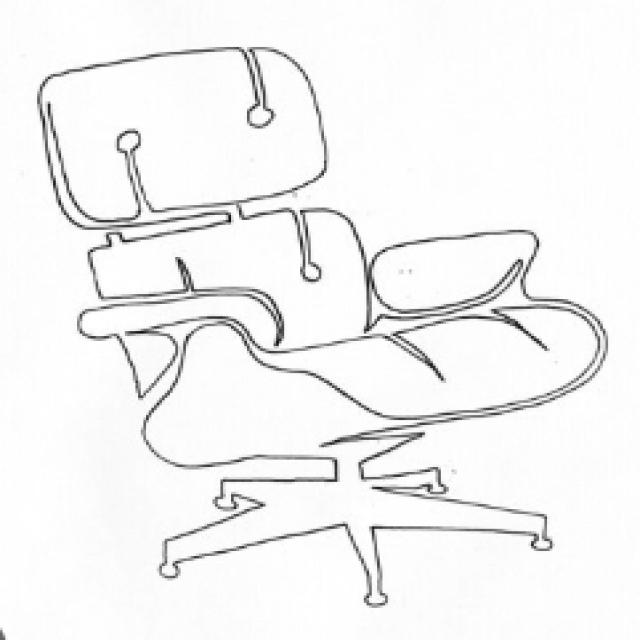Backrest: (83, 205, 376, 349)
Eames_base: (156, 462, 573, 615)
Eames_lounge: (365, 227, 544, 318), (76, 284, 288, 354)
Headrest: (35, 45, 332, 234)
Seat: (134, 293, 613, 475)
